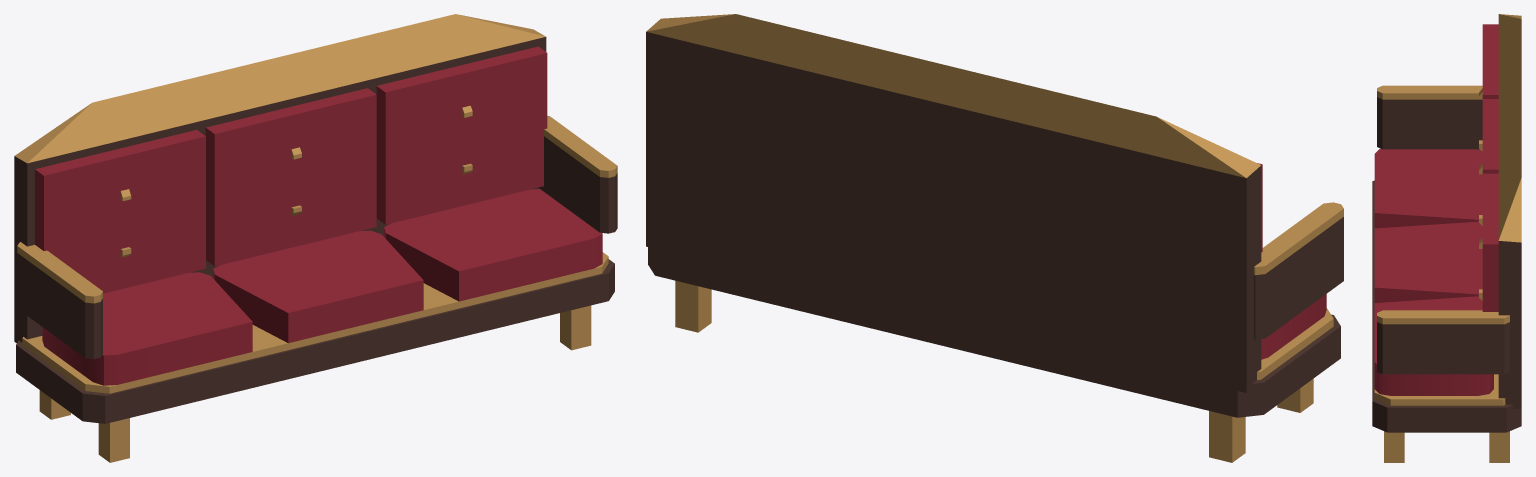
Rendered from Casino_Banquette.fbx.
3 renders of one model, left to right at view 1: azimuth 30°, elevation 25°; view 2: azimuth 150°, elevation 25°; view 3: azimuth 270°, elevation 25°, orthographic. The views are drawn at different scales.
Parts seen in each view (by area): view 1: Casino_Banquette; view 2: Casino_Banquette; view 3: Casino_Banquette.
Part boxes in pixels (x1,y1,x2,y2): Casino_Banquette: [14, 14, 617, 462]; Casino_Banquette: [646, 14, 1343, 462]; Casino_Banquette: [1372, 14, 1521, 462].
Bounding box in the file's own units: 240 × 125 × 65.
